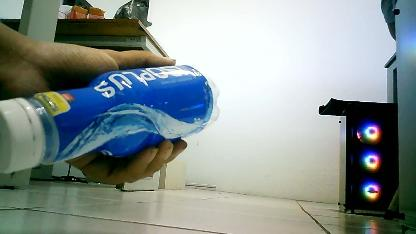Plastic Bottle: (0, 61, 224, 175)
